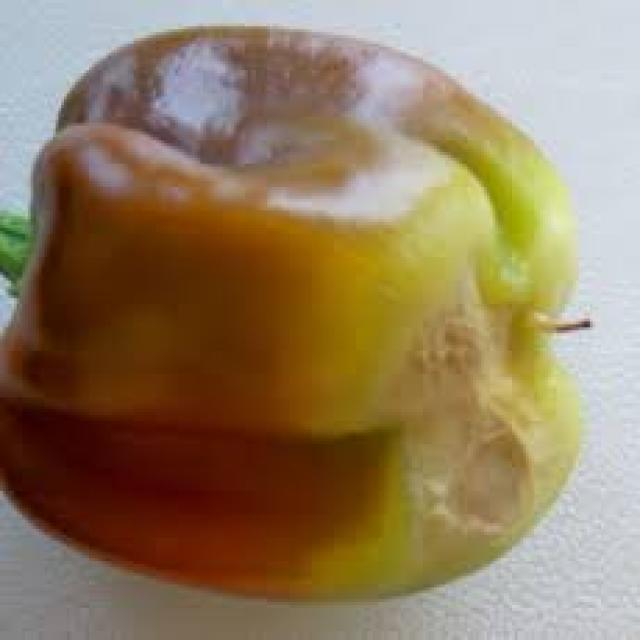Wet Waste: (4, 20, 601, 615)
